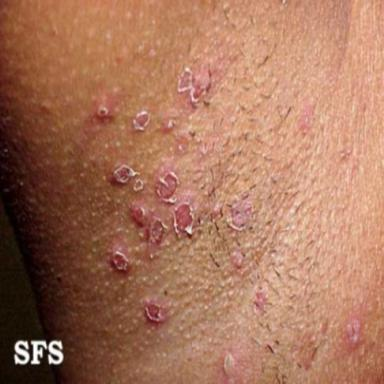Impetigo: (131, 202, 169, 243), (178, 65, 211, 106), (227, 201, 252, 231), (157, 171, 179, 203), (141, 297, 167, 323), (174, 202, 194, 235), (111, 244, 130, 271), (299, 103, 316, 133), (113, 164, 139, 183), (90, 101, 113, 122), (346, 318, 361, 344), (133, 110, 151, 131), (254, 287, 268, 313), (231, 248, 245, 269), (223, 353, 234, 378), (161, 117, 176, 133), (133, 178, 144, 191)
